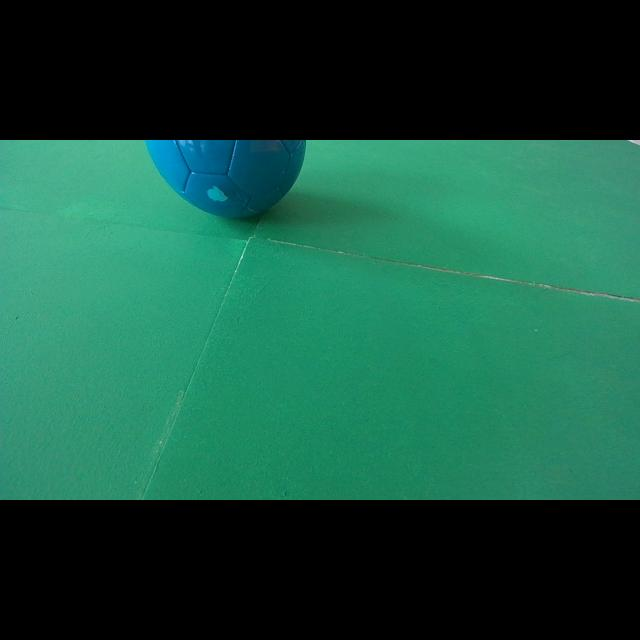B: (148, 140, 306, 218)
